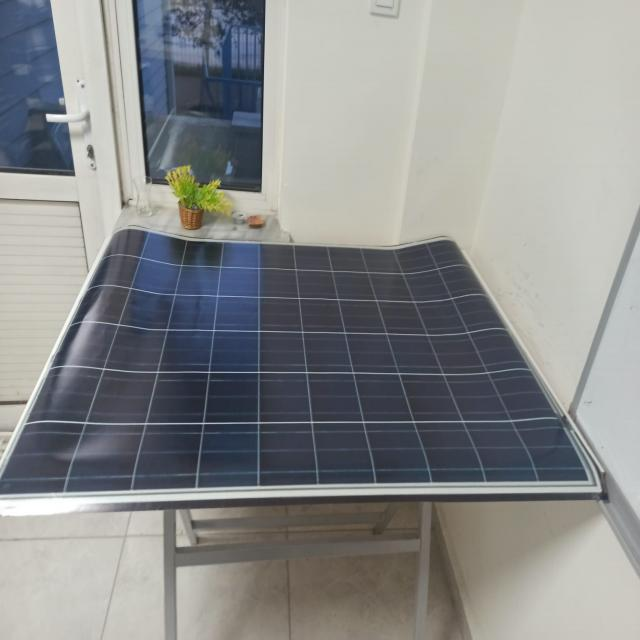no faulty: (0, 229, 616, 493)
